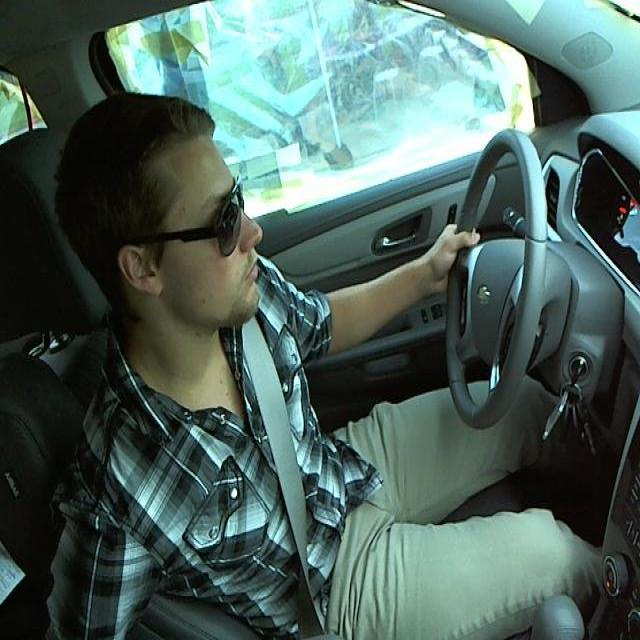seatbelt: (231, 326, 346, 626)
